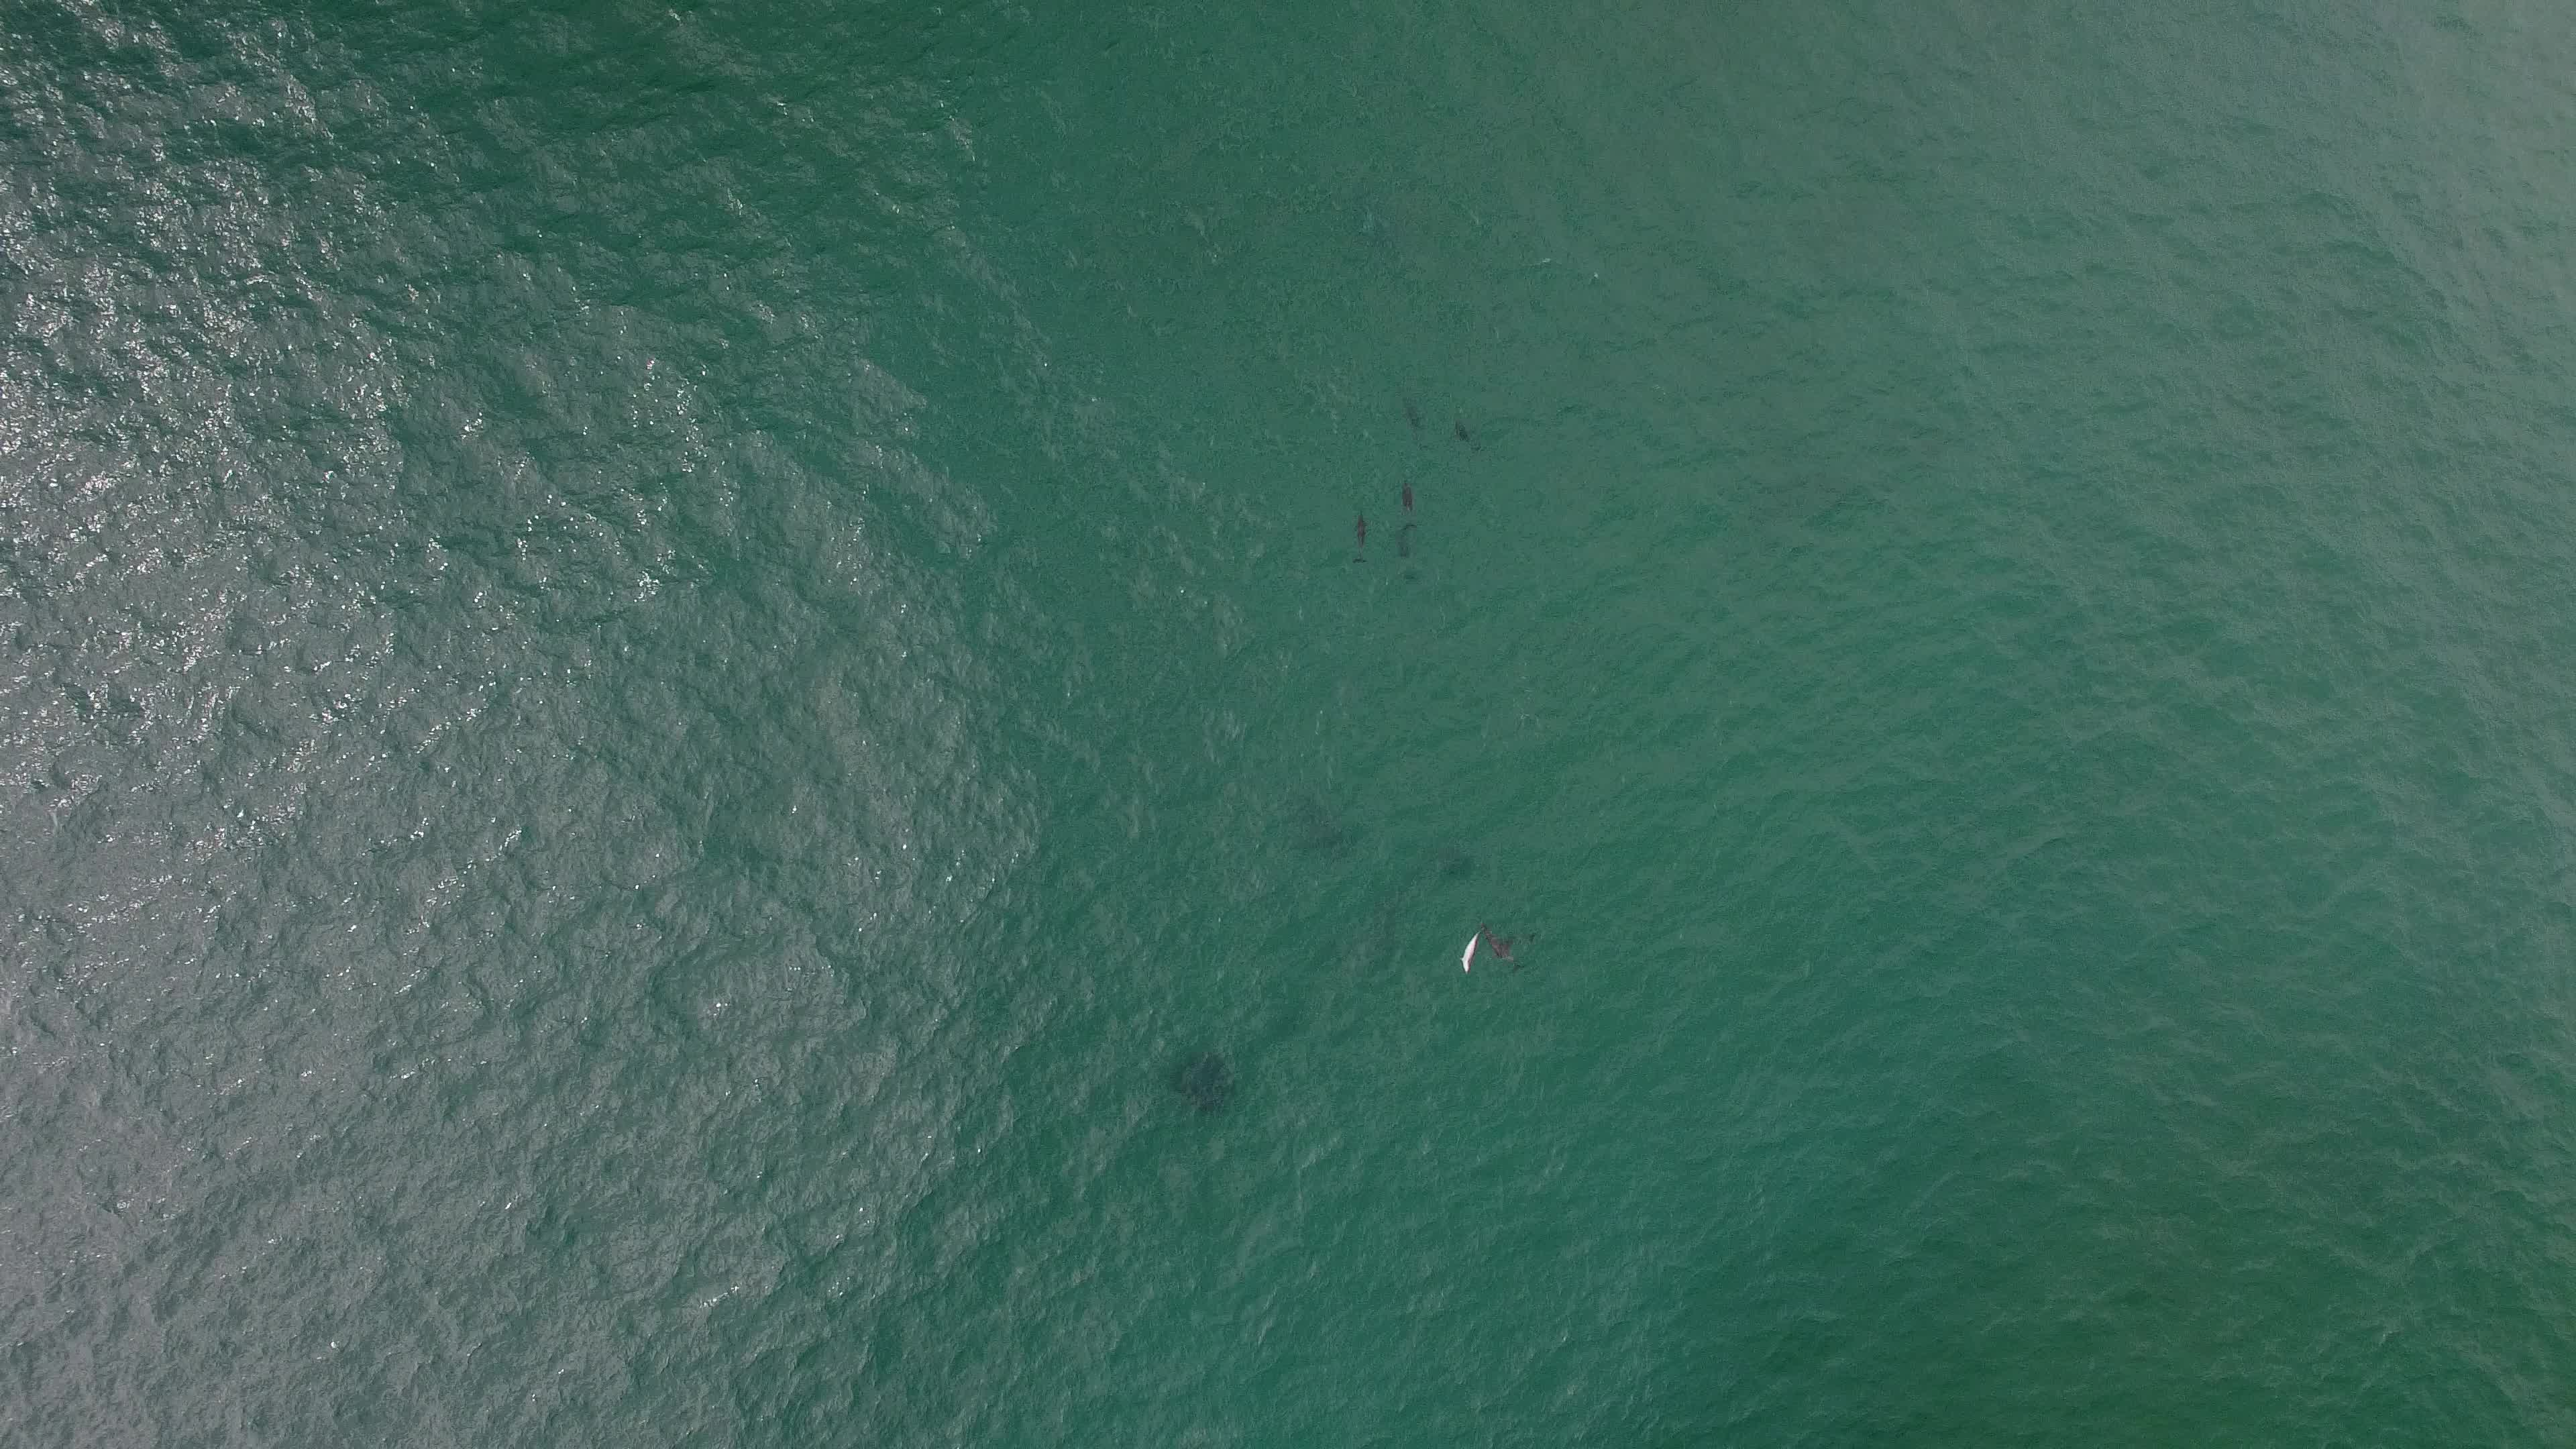dolphin: (1468, 913, 1525, 971), (1385, 458, 1428, 531), (1339, 497, 1380, 568), (1449, 918, 1488, 987)
